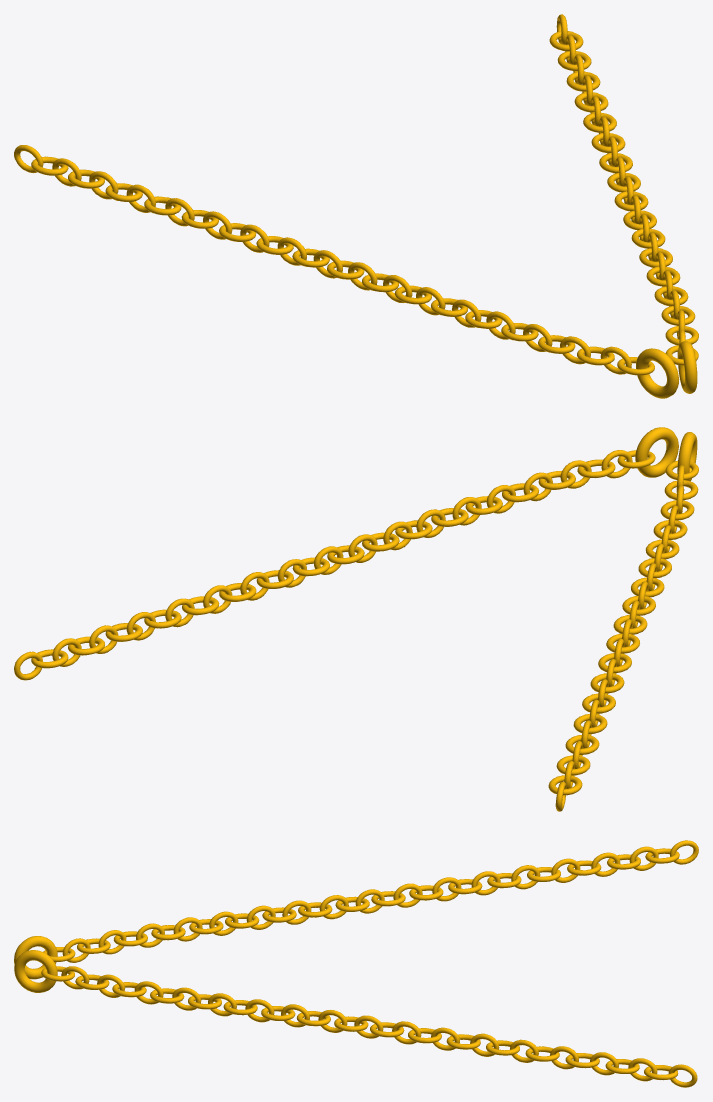
The model's file is BRACELET131.glb.
3 views of the same model, one above another, from view 1: azimuth 30°, elevation 25°; view 2: azimuth 150°, elevation 25°; view 3: azimuth 270°, elevation 25° (orthographic). The views are drawn at different scales.
Parts seen in each view (by area): view 1: chain_left_object_4, chain_right_object_5; view 2: chain_right_object_5, chain_left_object_4; view 3: chain_right_object_5, chain_left_object_4.
Part boxes in pixels (x1,y1,x2,y2): chain_left_object_4: (14,145,679,398); chain_right_object_5: (549,14,698,393); chain_right_object_5: (14,427,678,680); chain_left_object_4: (548,432,698,811); chain_right_object_5: (14,950,697,1087); chain_left_object_4: (14,840,698,979).
Size of the model in its own units: 21.38 by 1.85 by 26.95.
